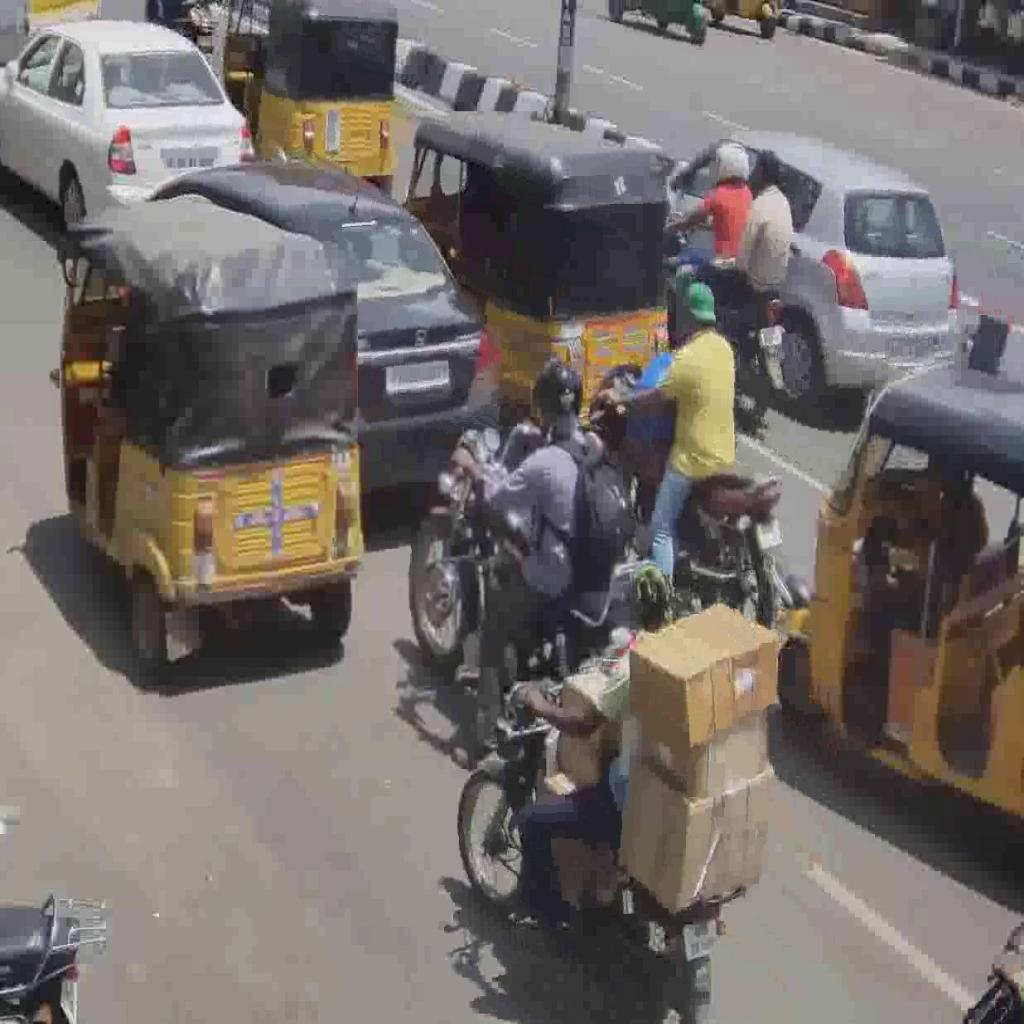helmet: (456, 674, 728, 1024), (406, 419, 658, 681), (587, 358, 785, 630), (666, 206, 787, 426)
